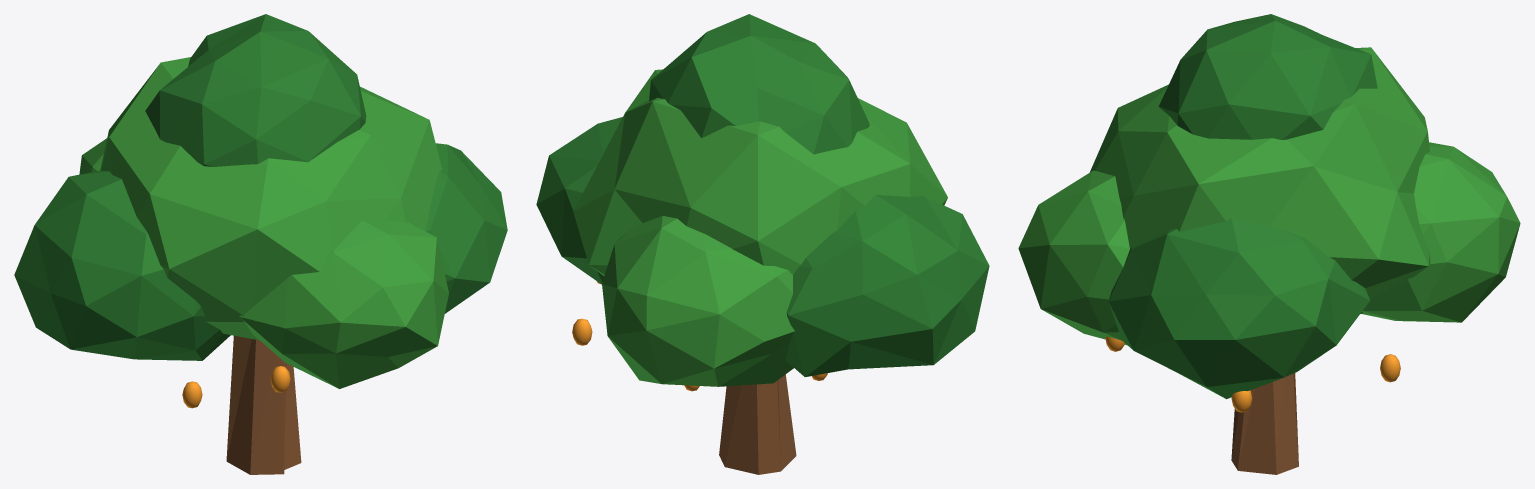
File: mango.glb
3 renders of one model, left to right at view 1: azimuth 30°, elevation 25°; view 2: azimuth 150°, elevation 25°; view 3: azimuth 270°, elevation 25°, orthographic. The views are drawn at different scales.
Parts seen in each view (by area): view 1: copa_1, copa_3, copa_6, copa_4, copa_2, tronco, mango, copa_5; view 2: copa_1, copa_3, copa_5, copa_6, tronco, copa_2, mango; view 3: copa_1, copa_2, copa_6, copa_5, copa_4, tronco, mango.
Part boxes in pixels (<box>): copa_1: <box>100,57,442,340</box>; copa_3: <box>14,170,230,360</box>; copa_6: <box>145,14,366,166</box>; copa_4: <box>239,220,448,388</box>; copa_2: <box>425,143,507,313</box>; tronco: <box>226,335,301,474</box>; mango: <box>182,366,290,408</box>; copa_5: <box>79,138,106,174</box>; copa_1: <box>573,69,947,275</box>; copa_3: <box>785,195,989,376</box>; copa_5: <box>602,216,794,386</box>; copa_6: <box>649,14,869,154</box>; tronco: <box>719,374,796,474</box>; copa_2: <box>536,117,622,284</box>; mango: <box>572,281,827,391</box>; copa_1: <box>1090,47,1430,313</box>; copa_2: <box>1108,218,1370,399</box>; copa_6: <box>1158,14,1377,139</box>; copa_5: <box>1361,142,1520,322</box>; copa_4: <box>1018,170,1129,345</box>; tronco: <box>1231,373,1298,474</box>; mango: <box>1105,336,1400,412</box>.
Bounding box in the file's own units: 5.49 × 5.11 × 5.3.
